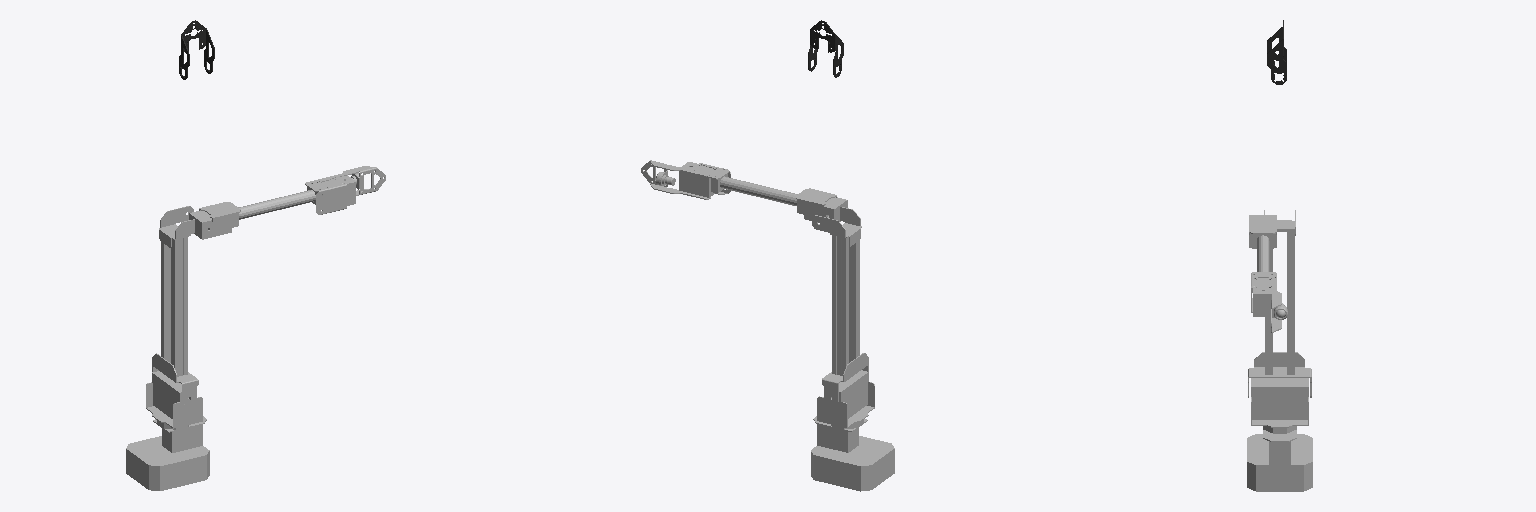
URDF robot description (roarm_robot_arm_instance):
<?xml version="1.0" ?>
<!-- =================================================================================== -->
<!-- |    This document was autogenerated by xacro from roarm_urdf_builder.xacro       | -->
<!-- |    EDITING THIS FILE BY HAND IS NOT RECOMMENDED                                 | -->
<!-- =================================================================================== -->
<robot name="roarm_robot_arm_instance">
  <!-- Base Link -->
  <link name="base_link">
    <inertial>
      <origin rpy="0 0 0" xyz="0.00373847392098165 -1.52445893424664E-10 0.0264265327292804"/>
      <mass value="0.326392759093976"/>
      <inertia ixx="0.000224202818963409" ixy="-1.96773409840189E-13" ixz="-2.99224798427881E-05" iyy="0.000286616921839535" iyz="-3.10964171549742E-13" izz="0.000349957607258242"/>
    </inertial>
    <visual>
      <origin rpy="0 0 0" xyz="0 0 0"/>
      <geometry>
        <mesh filename="package://roarm_description/meshes/base_link.STL"/>
      </geometry>
      <material name="">
        <color rgba="0.752941176470588 0.752941176470588 0.752941176470588 1"/>
      </material>
    </visual>
    <collision>
      <origin rpy="0 0 0" xyz="0 0 0"/>
      <geometry>
        <mesh filename="package://roarm_description/meshes/base_link.STL"/>
      </geometry>
    </collision>
  </link>
  <!-- Link1 -->
  <link name="link1">
    <inertial>
      <origin rpy="0 0 0" xyz="-3.11559626639357E-12 9.70240468164796E-06 -0.0146667419724465"/>
      <mass value="0.0928887601998397"/>
      <inertia ixx="6.09210980255232E-05" ixy="-2.79207542479444E-18" ixz="4.24841739939559E-15" iyy="2.53493566630784E-05" iyz="2.16442830142331E-08" izz="4.88050835919342E-05"/>
    </inertial>
    <visual>
      <origin rpy="0 0 0" xyz="0 0 0"/>
      <geometry>
        <mesh filename="package://roarm_description/meshes/link1.STL"/>
      </geometry>
      <material name="">
        <color rgba="0.752941176470588 0.752941176470588 0.752941176470588 1"/>
      </material>
    </visual>
    <collision>
      <origin rpy="0 0 0" xyz="0 0 0"/>
      <geometry>
        <mesh filename="package://roarm_description/meshes/link1.STL"/>
      </geometry>
    </collision>
  </link>
  <!-- Joint: base_link to link1 -->
  <joint name="base_link_to_link1" type="revolute">
    <origin rpy="0 0 0" xyz="0.0100000008759151 0 0.123059270461044"/>
    <parent link="base_link"/>
    <child link="link1"/>
    <axis xyz="0 0 -1"/>
    <limit effort="0" lower="-3.1416" upper="3.1416" velocity="0"/>
  </joint>
  <!-- Link2 -->
  <link name="link2">
    <inertial>
      <origin rpy="0 0 0" xyz="0.122021157535333 6.61338425981053E-05 -9.50311342843365E-05"/>
      <mass value="0.0895817175833772"/>
      <inertia ixx="2.6269354271334E-05" ixy="-2.55344668379587E-06" ixz="-3.90237379833709E-09" iyy="0.000350369536011831" iyz="-6.82396195680563E-09" izz="0.000333056833230846"/>
    </inertial>
    <visual>
      <origin rpy="0 0 0" xyz="0 0 0"/>
      <geometry>
        <mesh filename="package://roarm_description/meshes/link2.STL"/>
      </geometry>
      <material name="">
        <color rgba="0.752941176470588 0.752941176470588 0.752941176470588 1"/>
      </material>
    </visual>
    <collision>
      <origin rpy="0 0 0" xyz="0 0 0"/>
      <geometry>
        <mesh filename="package://roarm_description/meshes/link2.STL"/>
      </geometry>
    </collision>
  </link>
  <!-- Joint: link1 to link2 -->
  <joint name="link1_to_link2" type="revolute">
    <origin rpy="-1.5707963267949 -1.5707963267949 0" xyz="0 0 0"/>
    <parent link="link1"/>
    <child link="link2"/>
    <axis xyz="0 0 -1"/>
    <limit effort="0" lower="-1.5708" upper="1.5708" velocity="0"/>
  </joint>
  <!-- Link3 -->
  <link name="link3">
    <inertial>
      <origin rpy="0 0 0" xyz="-0.00076280945740961 -0.114419656440929 -0.000177274968057332"/>
      <mass value="0.123009044986454"/>
      <inertia ixx="0.000104111883333949" ixy="1.06443789581137E-07" ixz="1.54925816846055E-07" iyy="1.46357151076022E-05" iyz="-1.6435520156444E-07" izz="0.000104009297710106"/>
    </inertial>
    <visual>
      <origin rpy="0 0 0" xyz="0 0 0"/>
      <geometry>
        <mesh filename="package://roarm_description/meshes/link3.STL"/>
      </geometry>
      <material name="">
        <color rgba="0.752941176470588 0.752941176470588 0.752941176470588 1"/>
      </material>
    </visual>
    <collision>
      <origin rpy="0 0 0" xyz="0 0 0"/>
      <geometry>
        <mesh filename="package://roarm_description/meshes/link3.STL"/>
      </geometry>
    </collision>
  </link>
  <!-- Joint: link2 to link3 -->
  <joint name="link2_to_link3" type="revolute">
    <origin rpy="0 0 1.5707963267949" xyz="0.236815132922094 0.0300023995170449 0"/>
    <parent link="link2"/>
    <child link="link3"/>
    <axis xyz="0 0 1"/>
    <limit effort="0" lower="-1" upper="3.1416" velocity="0"/>
  </joint>
  <!-- Gripper Link -->
  <link name="gripper_link">
    <inertial>
      <origin rpy="0 0 0" xyz="0.0288857415118809 -0.000776842039187049 -0.000779764534254559"/>
      <mass value="0.00365697683069397"/>
      <inertia ixx="1.15139272656909E-06" ixy="1.31250385773157E-07" ixz="-2.41954534039415E-13" iyy="2.33034171341163E-06" iyz="4.1392257505497E-13" izz="1.47179863096272E-06"/>
    </inertial>
    <visual>
      <origin rpy="0 0 0" xyz="0 0 0"/>
      <geometry>
        <mesh filename="package://roarm_description/meshes/gripper_link.STL"/>
      </geometry>
      <material name="">
        <color rgba="0.219607843137255 0.219607843137255 0.219607843137255 1"/>
      </material>
    </visual>
    <collision>
      <origin rpy="0 0 0" xyz="0 0 0"/>
      <geometry>
        <mesh filename="package://roarm_description/meshes/gripper_link.STL"/>
      </geometry>
    </collision>
  </link>
  <!-- Joint: link3 to gripper_link -->
  <joint name="link3_to_gripper_link" type="revolute">
    <origin rpy="-1.5708 0 -1.5708" xyz="0.002906 -0.21599 -0.00066683"/>
    <parent link="link3"/>
    <child link="gripper_link"/>
    <axis xyz="0 0 1"/>
    <limit effort="0" lower="0" upper="1.5" velocity="0"/>
  </joint>
  <!-- Hand TCP Link -->
  <link name="hand_tcp"/>
  <!-- Joint: link3 to hand_tcp -->
  <joint name="link3_to_hand_tcp" type="fixed">
    <origin rpy="-1.5708 0 -1.5708" xyz="0.002 -0.2802 0"/>
    <parent link="link3"/>
    <child link="hand_tcp"/>
    <axis xyz="0 0 0"/>
  </joint>
</robot>

--- Render facts (derived) ---
Views: 3 orthographic renders of the robot side by side, from view 1: azimuth 30°, elevation 25°; view 2: azimuth 150°, elevation 25°; view 3: azimuth 270°, elevation 25°.
Robot: roarm_robot_arm_instance — 6 links, 5 joints (4 revolute, 1 fixed); root link base_link; default pose: all joints at 0.
Visible links, largest first — view 1: link2, base_link, link3, link1, gripper_link; view 2: link2, base_link, link3, link1, gripper_link; view 3: base_link, link2, link1, link3, gripper_link.
Boxes of the visible links, x1=… form: link2: x1=152, y1=206, x2=198, y2=405; base_link: x1=126, y1=416, x2=209, y2=490; link3: x1=189, y1=166, x2=385, y2=239; link1: x1=146, y1=371, x2=202, y2=428; gripper_link: x1=179, y1=20, x2=214, y2=79; link2: x1=812, y1=207, x2=868, y2=405; base_link: x1=811, y1=416, x2=894, y2=491; link3: x1=641, y1=160, x2=847, y2=222; link1: x1=817, y1=370, x2=874, y2=427; gripper_link: x1=808, y1=20, x2=843, y2=77; base_link: x1=1247, y1=426, x2=1312, y2=491; link2: x1=1248, y1=210, x2=1311, y2=397; link1: x1=1251, y1=378, x2=1308, y2=427; link3: x1=1249, y1=215, x2=1287, y2=332; gripper_link: x1=1267, y1=20, x2=1286, y2=84.
Bounding box of the posed robot: 0.3698 × 0.0816 × 0.6437 m (x, y, z).
Meshes: 5 distinct files referenced, 5 mesh visuals loaded (5 binary STL).